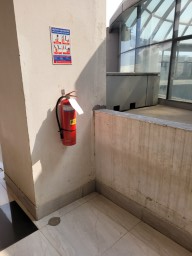fire_extinguisher: (68, 145, 110, 181)
